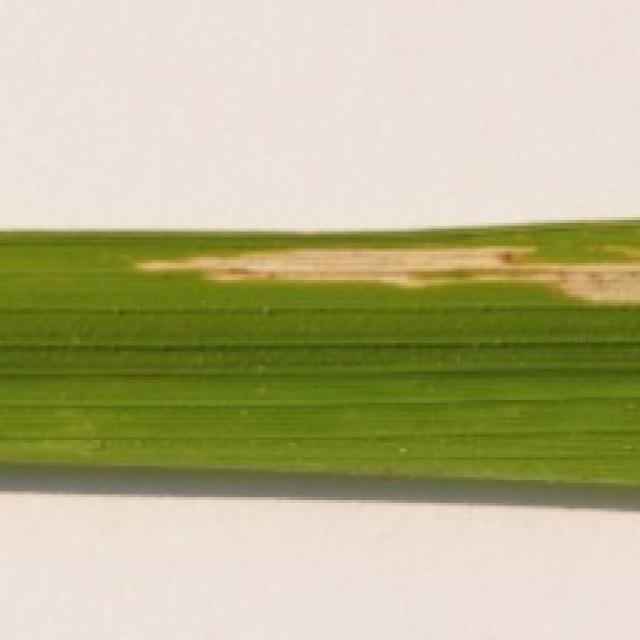Rice___Bacterial_Leaf_Blight: (0, 217, 637, 486)
